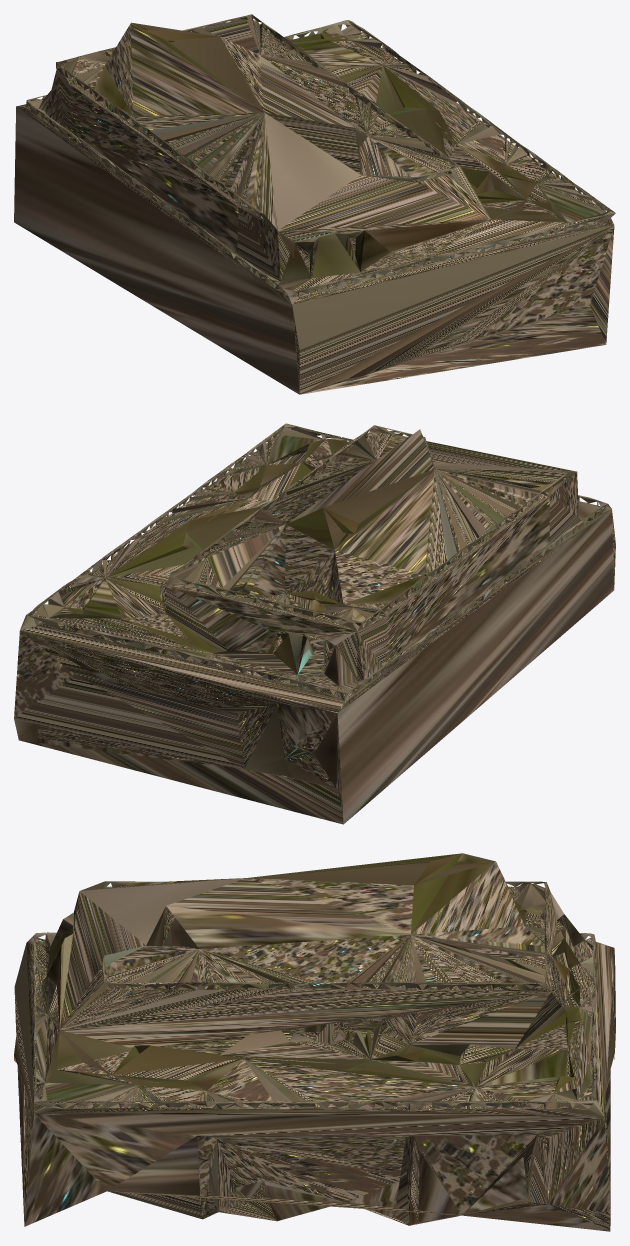
Rendered from c04_far.glb.
3 views of the same model, one above another, from view 1: azimuth 30°, elevation 25°; view 2: azimuth 150°, elevation 25°; view 3: azimuth 270°, elevation 25° (orthographic). The views are drawn at different scales.
Visible parts, largest first — view 1: c04_far; view 2: c04_far; view 3: c04_far.
Boxes of the visible parts, x1,y1,x2,y2 form: c04_far: (14,14,615,394); c04_far: (14,423,615,824); c04_far: (14,853,615,1231).
Bounding box in the file's own units: 74.69 × 48 × 108.
1 material, 1 textured.
